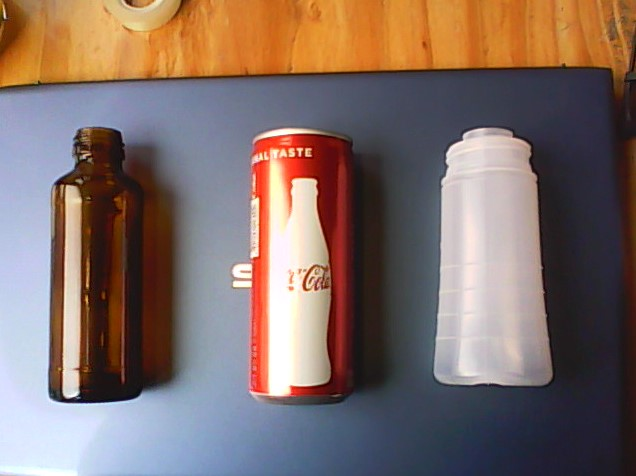Can: (242, 126, 360, 411)
Glass: (40, 121, 146, 406)
Plastic: (429, 124, 558, 392)
